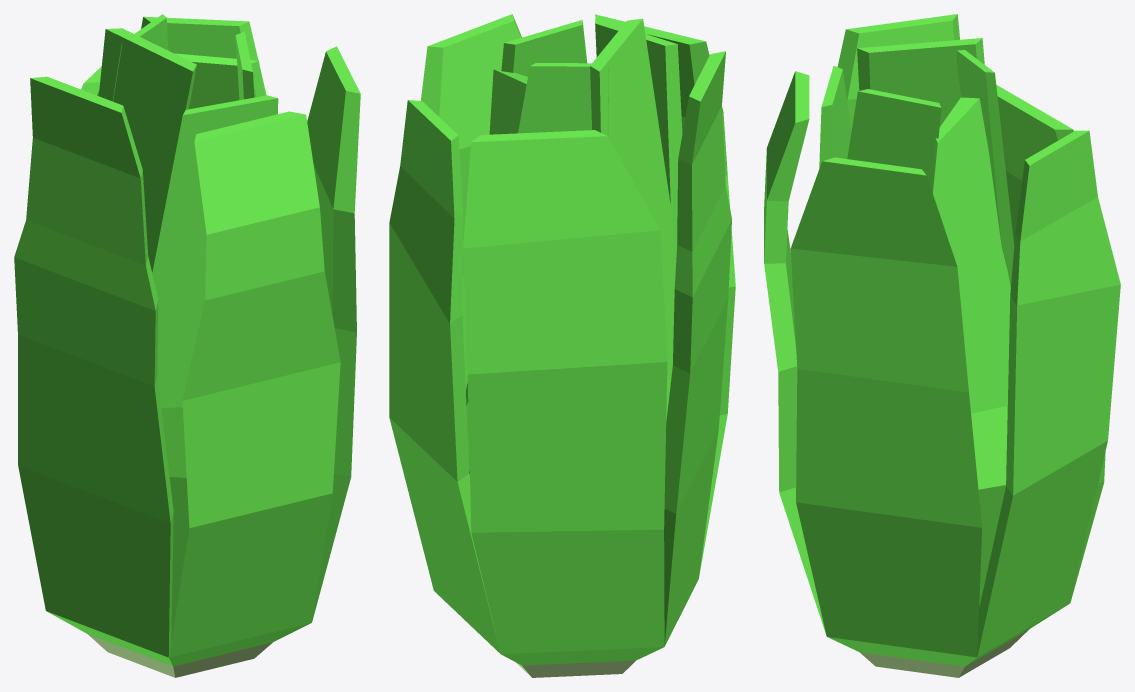
File: lettuce01.gltf
The picture shows the model from 3 angles, left to right: view 1: azimuth 30°, elevation 25°; view 2: azimuth 150°, elevation 25°; view 3: azimuth 270°, elevation 25°; orthographic projection. The views are drawn at different scales.
Parts seen in each view (by area): view 1: Cylinder.001; view 2: Cylinder.001; view 3: Cylinder.001.
Boxes of the visible parts, <box> form: Cylinder.001: <box>14,14,360,677</box>; Cylinder.001: <box>389,14,735,677</box>; Cylinder.001: <box>764,14,1120,677</box>.
Size of the model in its own units: 0.071 by 0.1394 by 0.077.
1 material, 1 textured.
